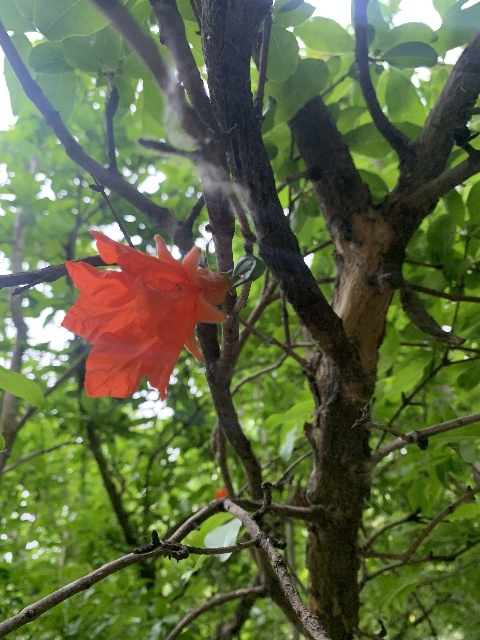flower: (60, 230, 231, 400)
